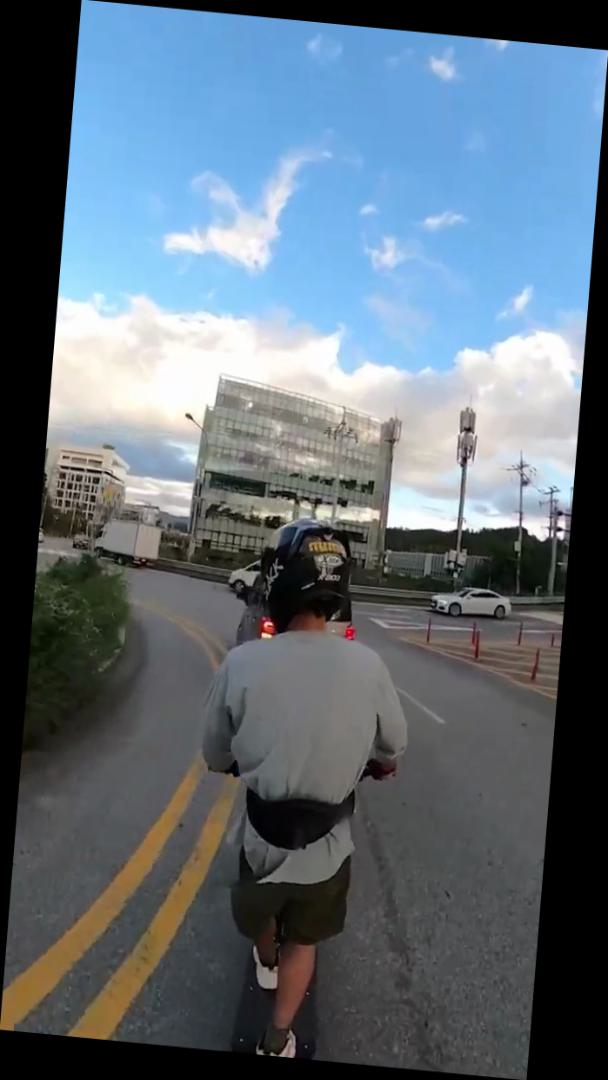helmet: (169, 508, 432, 1067)
